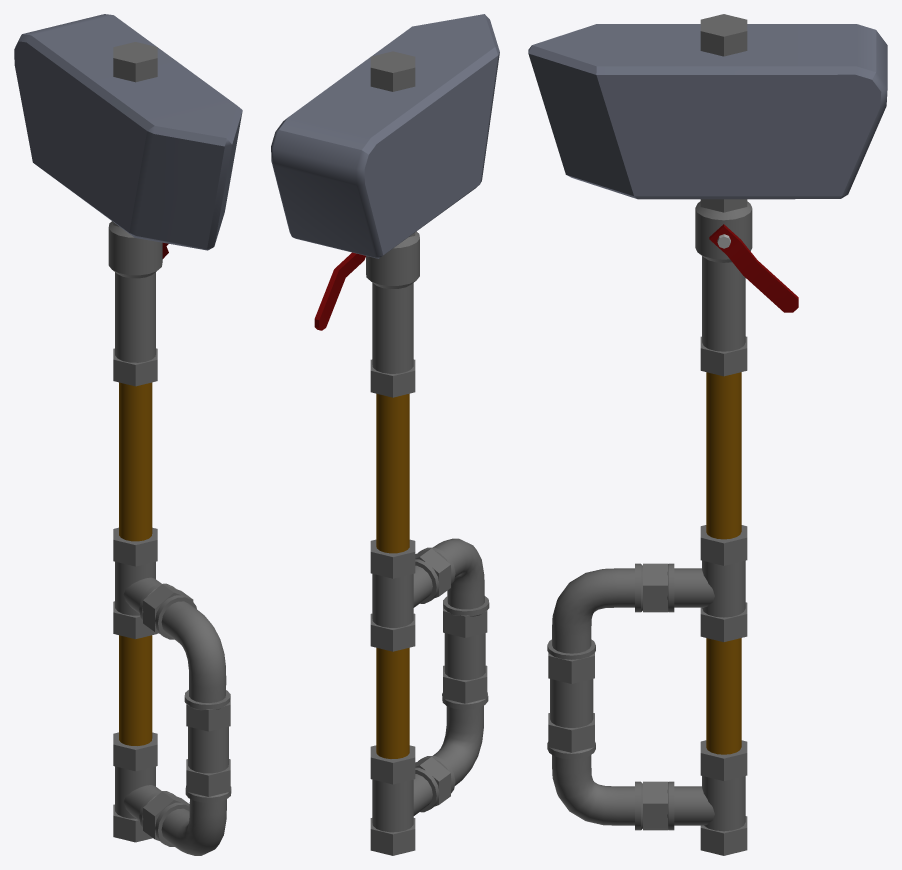
The model's file is SM_Hammer_01.fbx.
3 renders of one model, left to right at view 1: azimuth 30°, elevation 25°; view 2: azimuth 150°, elevation 25°; view 3: azimuth 270°, elevation 25°, orthographic. The views are drawn at different scales.
Visible parts, largest first — view 1: pCube242, polySurface214, pCylinder81, pCylinder89, pCylinder96, polySurface215, pCylinder92, pCylinder85, pCylinder91, pCylinder77, pCylinder90, pCylinder75 (+9 smaller); view 2: pCube242, polySurface214, pCylinder96, pCylinder89, pCylinder81, pCylinder75, polySurface215, pCylinder90, pCylinder92, pCylinder85, pCylinder91, pCylinder77 (+10 smaller); view 3: pCube242, polySurface214, pCylinder81, pCylinder89, pCylinder96, pCube241, polySurface215, pCylinder75, pCylinder92, pCylinder90, pCylinder85, pCylinder87 (+10 smaller).
Boxes of the visible parts, x1,y1,x2,y2 form: pCube242: [14, 14, 242, 250]; polySurface214: [119, 382, 152, 745]; pCylinder81: [155, 595, 230, 710]; pCylinder89: [155, 786, 231, 855]; pCylinder96: [115, 272, 155, 362]; polySurface215: [108, 221, 162, 278]; pCylinder92: [188, 726, 228, 773]; pCylinder85: [113, 42, 157, 82]; pCylinder91: [113, 732, 157, 771]; pCylinder77: [113, 527, 157, 566]; pCylinder90: [115, 766, 155, 818]; pCylinder75: [115, 561, 155, 615]; pCube242: [271, 14, 499, 258]; polySurface214: [376, 393, 409, 758]; pCylinder96: [372, 283, 413, 373]; pCylinder89: [418, 692, 488, 793]; pCylinder81: [418, 538, 489, 616]; pCylinder75: [372, 574, 413, 627]; polySurface215: [366, 231, 419, 288]; pCylinder90: [372, 779, 413, 832]; pCylinder92: [444, 633, 485, 679]; pCylinder85: [370, 51, 415, 91]; pCylinder91: [370, 745, 415, 784]; pCylinder77: [370, 539, 415, 578]; pCube242: [528, 24, 887, 199]; polySurface214: [706, 372, 741, 754]; pCylinder81: [547, 563, 642, 659]; pCylinder89: [547, 742, 642, 830]; pCylinder96: [702, 256, 745, 351]; pCube241: [709, 224, 798, 312]; polySurface215: [695, 201, 752, 262]; pCylinder75: [702, 560, 745, 617]; pCylinder92: [550, 679, 593, 727]; pCylinder90: [702, 776, 745, 831]; pCylinder85: [700, 14, 747, 56]; pCylinder87: [667, 781, 714, 830].
Bounding box in the file's own units: 10.92 × 87.27 × 34.69.
